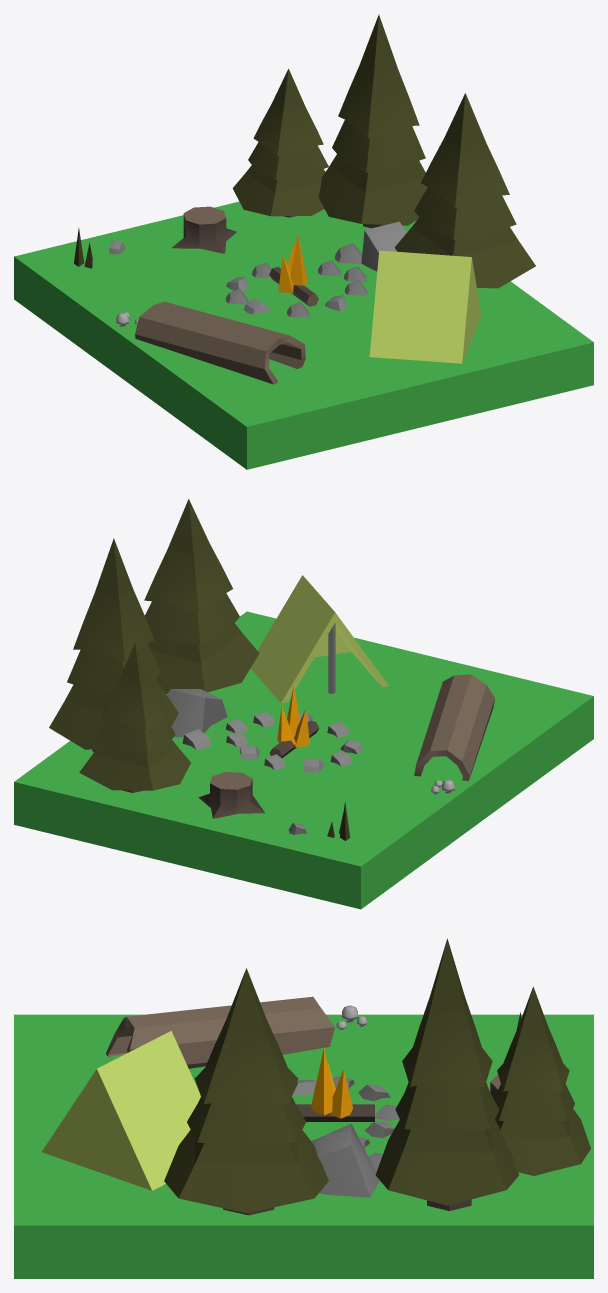
The model's file is Empty Camp Piece.fbx.
3 views of the same model, one above another, from view 1: azimuth 30°, elevation 25°; view 2: azimuth 150°, elevation 25°; view 3: azimuth 270°, elevation 25° (orthographic). The views are drawn at different scales.
Visible parts, largest first — view 1: Empty_Camp_Piece, Pine_Tree, Pine_Tree3, pCylinder8, Pine_Tree1, Log_1, Stump1, Rock1; view 2: Empty_Camp_Piece, Pine_Tree3, Pine_Tree, Pine_Tree1, pCylinder8, Log_1, Rock1, Stump1; view 3: Empty_Camp_Piece, Pine_Tree3, Pine_Tree, pCylinder8, Pine_Tree1, Log_1, Rock1, pCone3, pCylinder7, pCone4.
Boxes of the visible parts, x1,y1,x2,y2 form: Empty_Camp_Piece: (14, 201, 593, 469); Pine_Tree: (318, 14, 427, 225); Pine_Tree3: (394, 93, 535, 288); pCylinder8: (369, 250, 481, 363); Pine_Tree1: (232, 68, 328, 216); Log_1: (135, 301, 305, 384); Stump1: (172, 206, 236, 253); Rock1: (361, 221, 406, 271); Empty_Camp_Piece: (14, 611, 593, 909); Pine_Tree3: (144, 499, 259, 693); Pine_Tree: (49, 538, 178, 749); Pine_Tree1: (79, 643, 190, 790); pCylinder8: (250, 575, 388, 702); Log_1: (414, 674, 494, 780); Rock1: (167, 689, 227, 737); Stump1: (198, 772, 264, 818); Empty_Camp_Piece: (14, 1014, 593, 1278); Pine_Tree3: (164, 968, 328, 1213); Pine_Tree: (375, 938, 518, 1205); pCylinder8: (42, 1031, 200, 1190); Pine_Tree1: (494, 986, 590, 1175); Log_1: (106, 996, 334, 1068); Rock1: (311, 1124, 379, 1197); pCone3: (311, 1048, 334, 1115); pCylinder7: (296, 1104, 374, 1121); pCone4: (330, 1069, 352, 1118).
Bounding box in the file's own units: 10.39 × 6.9 × 11.49.
